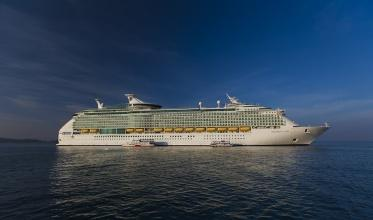youlun: (52, 87, 332, 151)
